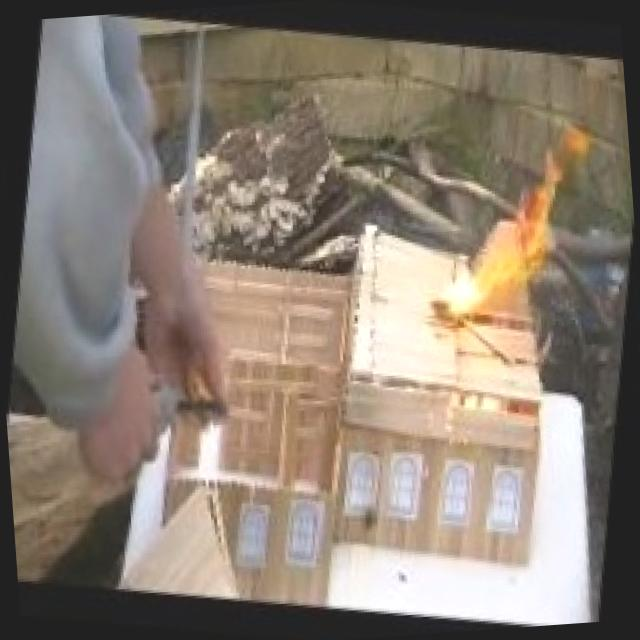fire: (418, 105, 596, 342)
